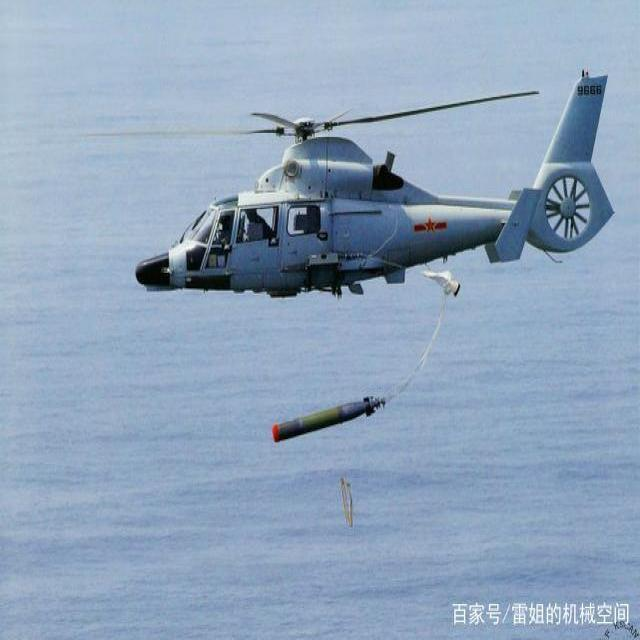MIL_HELO: (108, 75, 640, 352)
